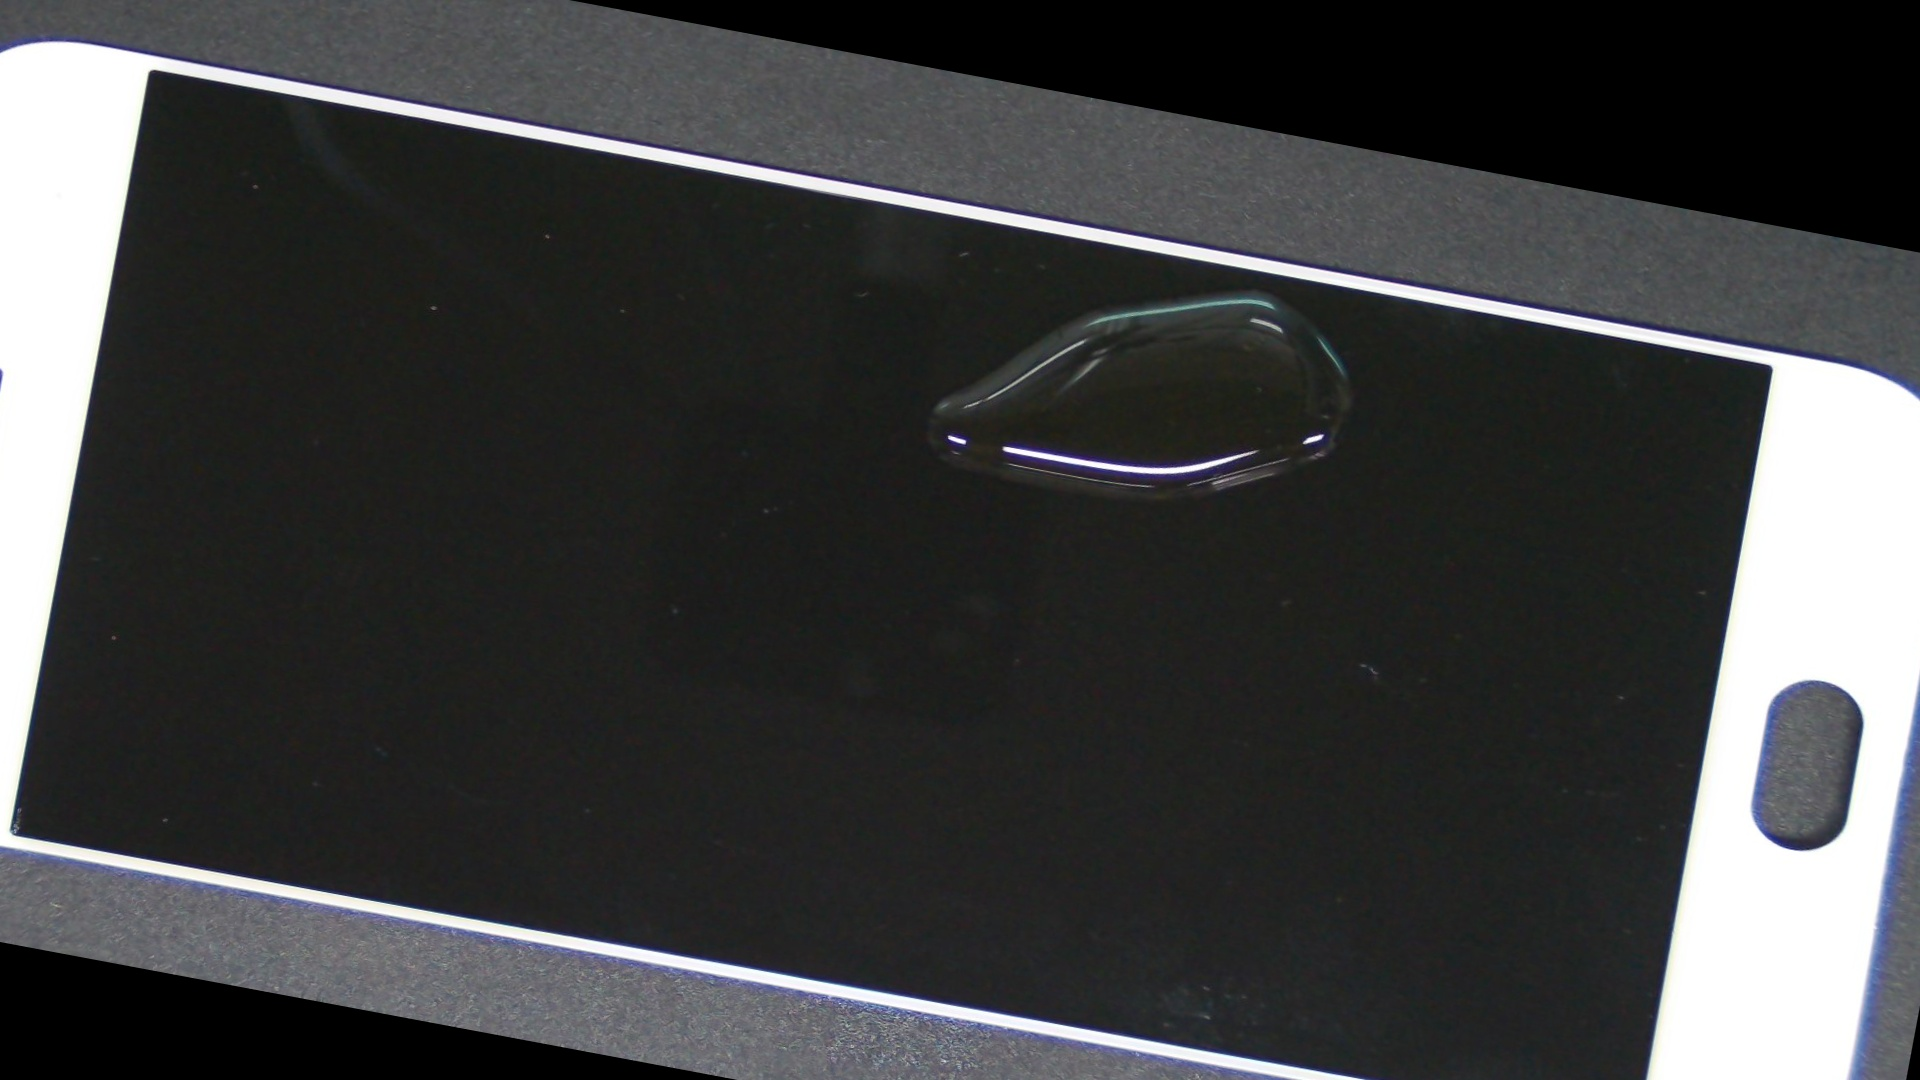oil: (542, 80, 1920, 497)
